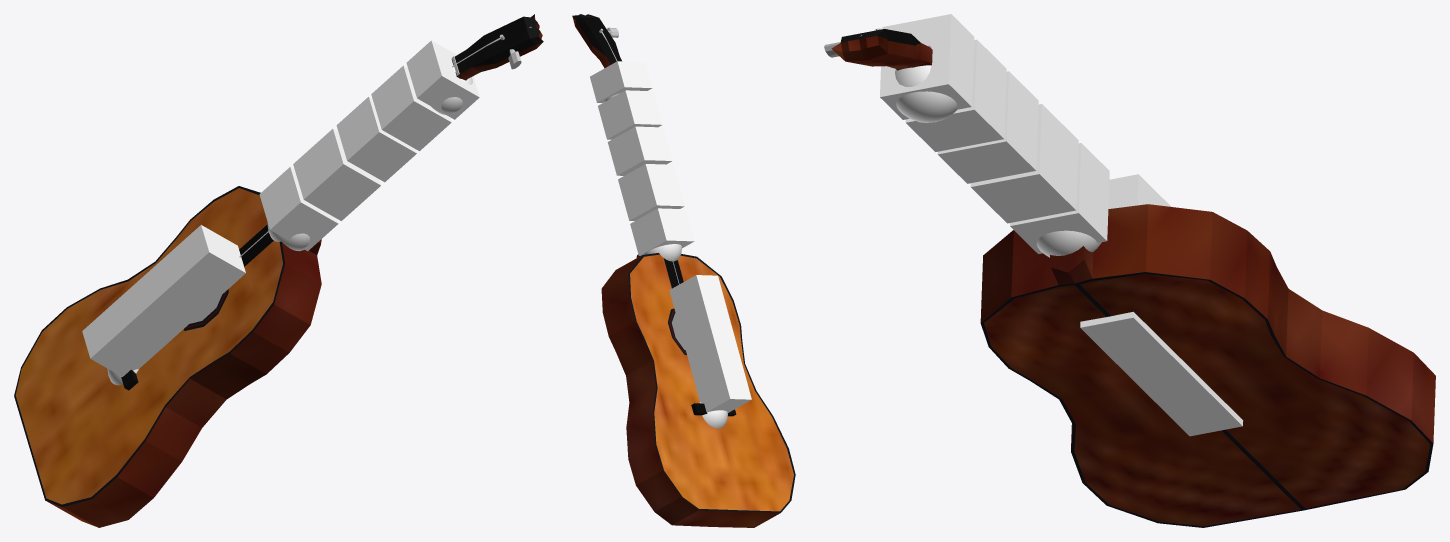
The model's file is AcousticGuitarAnchor.fbx.
3 views of the same model, side by side, from view 1: azimuth 30°, elevation 25°; view 2: azimuth 150°, elevation 25°; view 3: azimuth 270°, elevation 25° (orthographic). The views are drawn at different scales.
Visible parts, largest first — view 1: ACOUSTIC_GUITAR, StrumBar, Fret4, Fret2, Fret3, Fret5, Fret1; view 2: ACOUSTIC_GUITAR, StrumBar, Fret4, Fret3, Fret2, Fret5, Fret1, Center, ChestTouch; view 3: ACOUSTIC_GUITAR, StrumBar, Fret4, Fret1, Fret3, Fret2, Fret5, UnstickDistance, Center.
Boxes of the visible parts, <box> form: ACOUSTIC_GUITAR: <box>14,14,543,527</box>; StrumBar: <box>82,225,245,376</box>; Fret4: <box>293,129,381,220</box>; Fret2: <box>371,65,451,151</box>; Fret3: <box>336,96,416,182</box>; Fret5: <box>259,167,338,251</box>; Fret1: <box>406,40,479,119</box>; ACOUSTIC_GUITAR: <box>572,14,795,527</box>; StrumBar: <box>669,275,751,412</box>; Fret4: <box>618,164,684,220</box>; Fret3: <box>607,126,672,175</box>; Fret2: <box>598,90,662,139</box>; Fret5: <box>630,208,694,255</box>; Fret1: <box>590,61,652,102</box>; Center: <box>644,244,681,261</box>; ChestTouch: <box>700,402,727,428</box>; ACOUSTIC_GUITAR: <box>824,28,1435,527</box>; StrumBar: <box>1080,174,1243,436</box>; Fret4: <box>970,104,1078,223</box>; Fret1: <box>880,14,974,119</box>; Fret3: <box>937,71,1038,183</box>; Fret2: <box>905,39,1006,151</box>; Fret5: <box>1010,143,1109,254</box>; UnstickDistance: <box>895,65,957,122</box>; Center: <box>1036,230,1101,257</box>.
Size of the model in its own units: 40.61 by 51.29 by 38.59.
